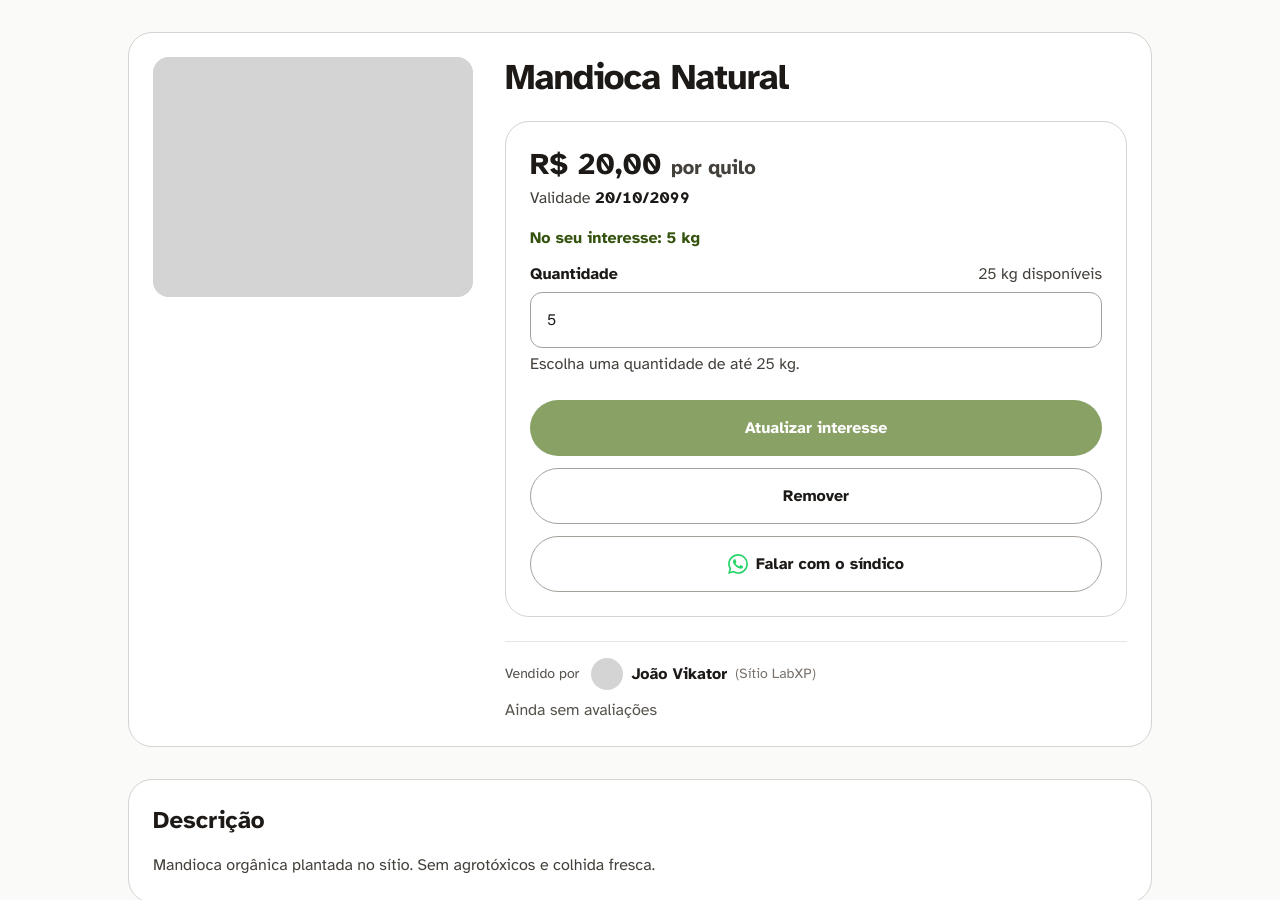
ProductDetail, interest removal › asks before removing, with the focus on Voltar
What coordinates should you click on to do the following:
click the button "Remover"
I would click on:
 (816, 496)
Its box is [530,468,1102,524].
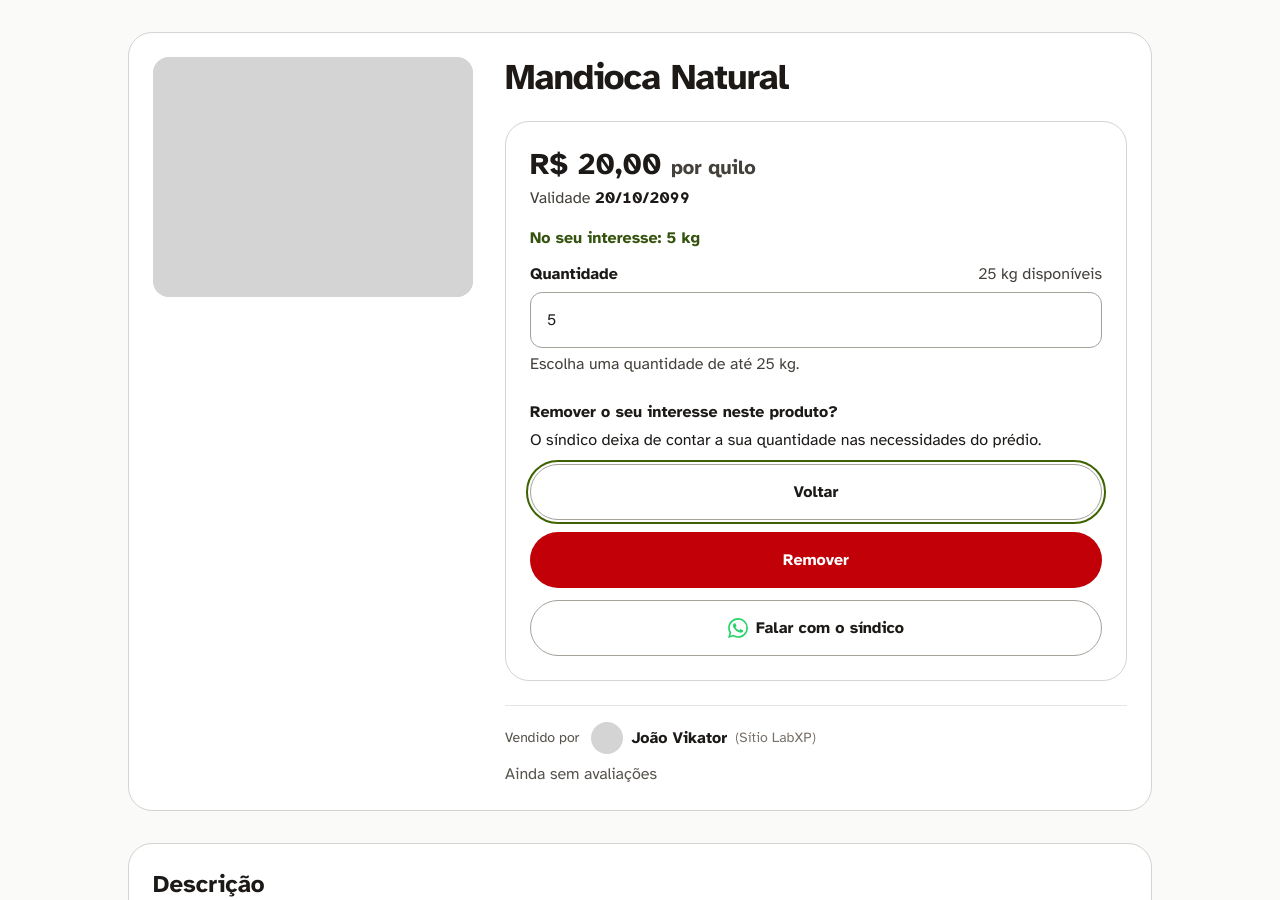
Now the text "Remover o seu interesse neste produto?" is shown, box [530,402,838,422]
